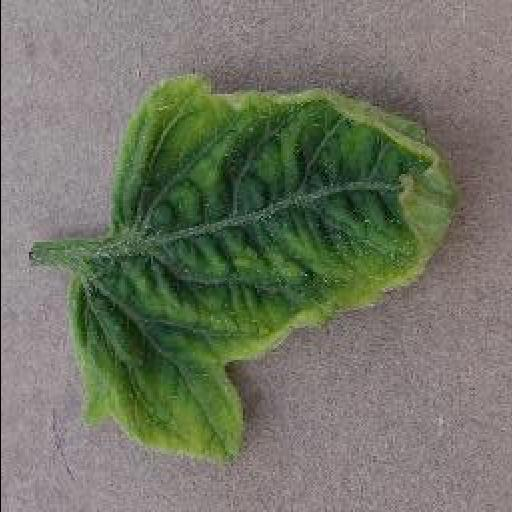disease_tomato: (64, 70, 452, 463)
